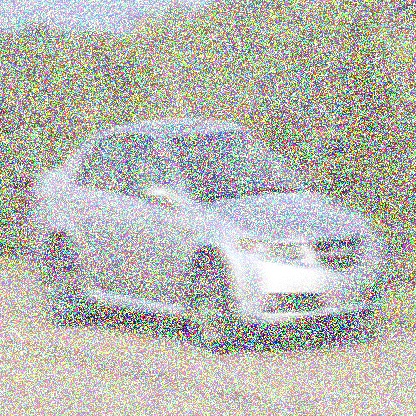Vehicle: (31, 117, 387, 356)
